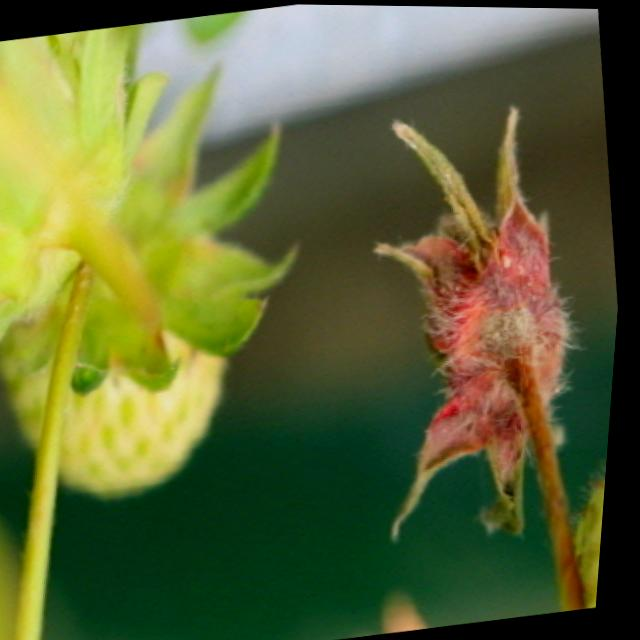Gray Mold: (375, 105, 578, 538)
